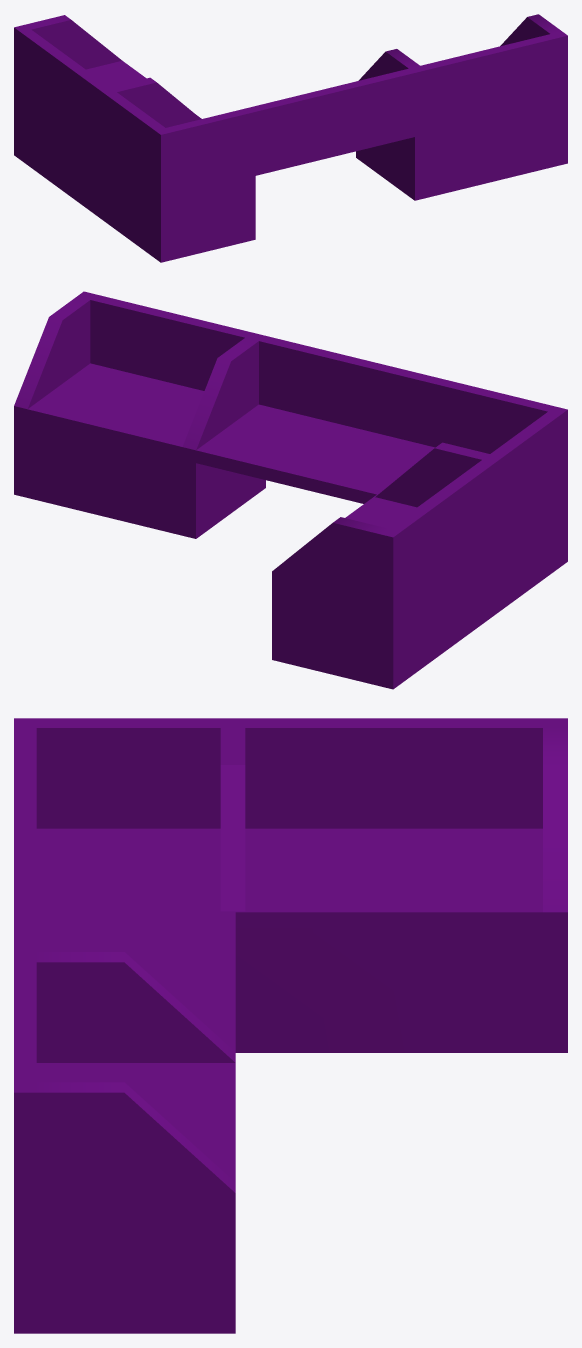
The model's file is int_office_desk_a_01.FBX.
3 views of the same model, one above another, from view 1: azimuth 30°, elevation 25°; view 2: azimuth 150°, elevation 25°; view 3: azimuth 270°, elevation 25° (orthographic). The views are drawn at different scales.
Visible parts, largest first — view 1: M20_OfficeDesk_a_01; view 2: M20_OfficeDesk_a_01; view 3: M20_OfficeDesk_a_01.
Boxes of the visible parts, <box> form: M20_OfficeDesk_a_01: <box>14,14,567,262</box>; M20_OfficeDesk_a_01: <box>14,291,567,689</box>; M20_OfficeDesk_a_01: <box>14,718,567,1333</box>.
Size of the model in its own units: 4.05 by 1.22 by 2.53.
